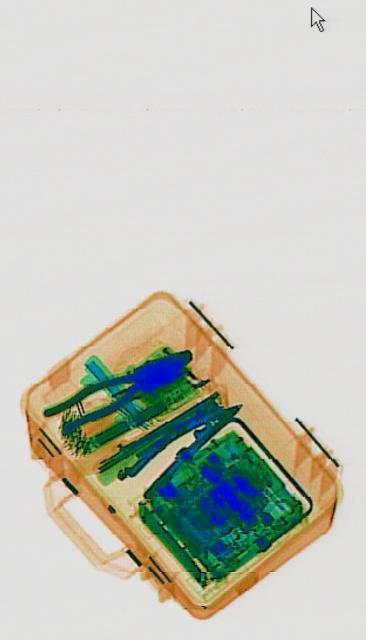Pliers: (40, 333, 192, 442)
